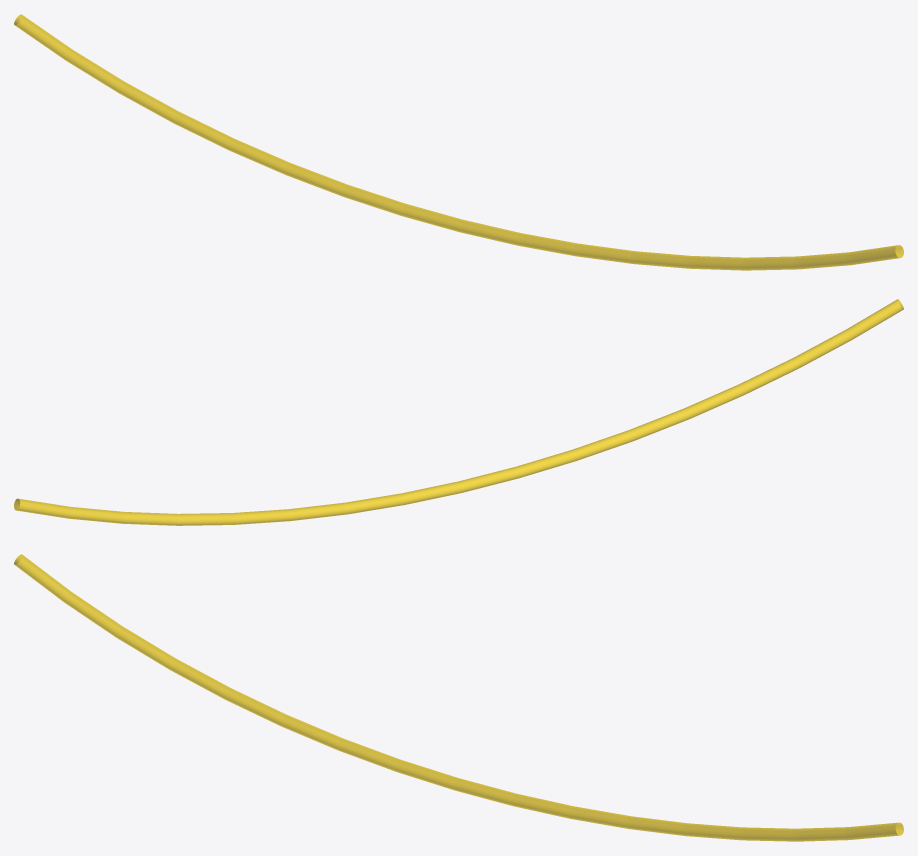
Rendered from Event_75125125_track_9.fbx.
3 renders of one model, top to bottom at view 1: azimuth 90°, elevation 25°; view 2: azimuth 150°, elevation 25°; view 3: azimuth 270°, elevation 25°, orthographic. The views are drawn at different scales.
Parts seen in each view (by area): view 1: Model; view 2: Model; view 3: Model.
Part boxes in pixels (box(x1,y1,x2,y2)): Model: box(14, 14, 903, 270); Model: box(14, 299, 903, 525); Model: box(14, 554, 903, 841).
Size of the model in its own units: 1.85 by 0.3741 by 2.72.
